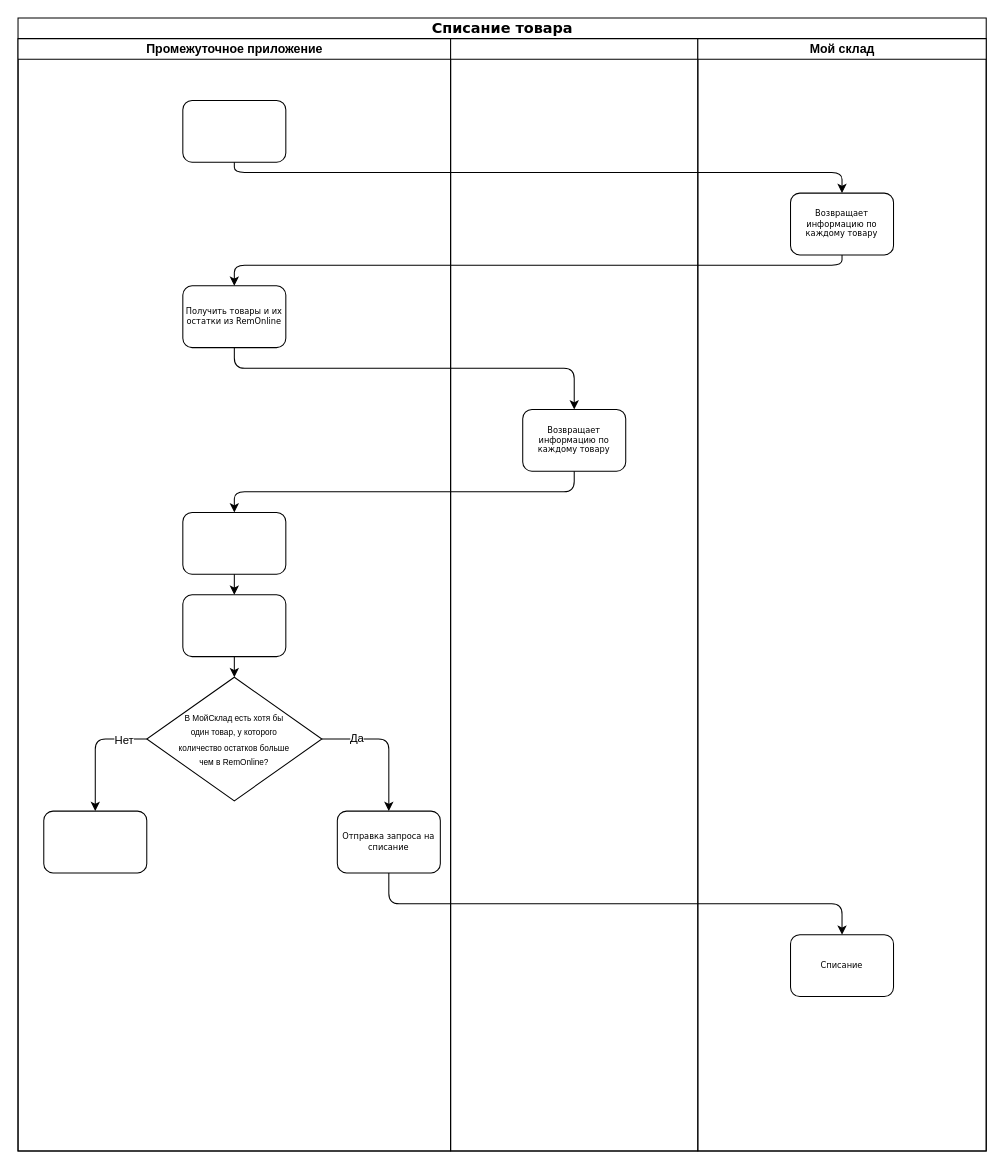
The diagram is 1004 pixels wide and 1169 high, and some of its shapes have lost their labels. The shapes that lost their labels are listed below. From the top down, each one's box as (x1, y1, x2, y2) in pixels, then its label:
(182, 99, 286, 162): Получить товары и их остатки из МойСклад
(182, 511, 286, 574): Сопоставить товары из МойСклад и RemOnline по внешнему ключу
(450, 38, 698, 1151): RemOnline
(182, 594, 286, 657): Сравнить количество остатков у каждого товара
(43, 810, 147, 873): Ничего не происходит
